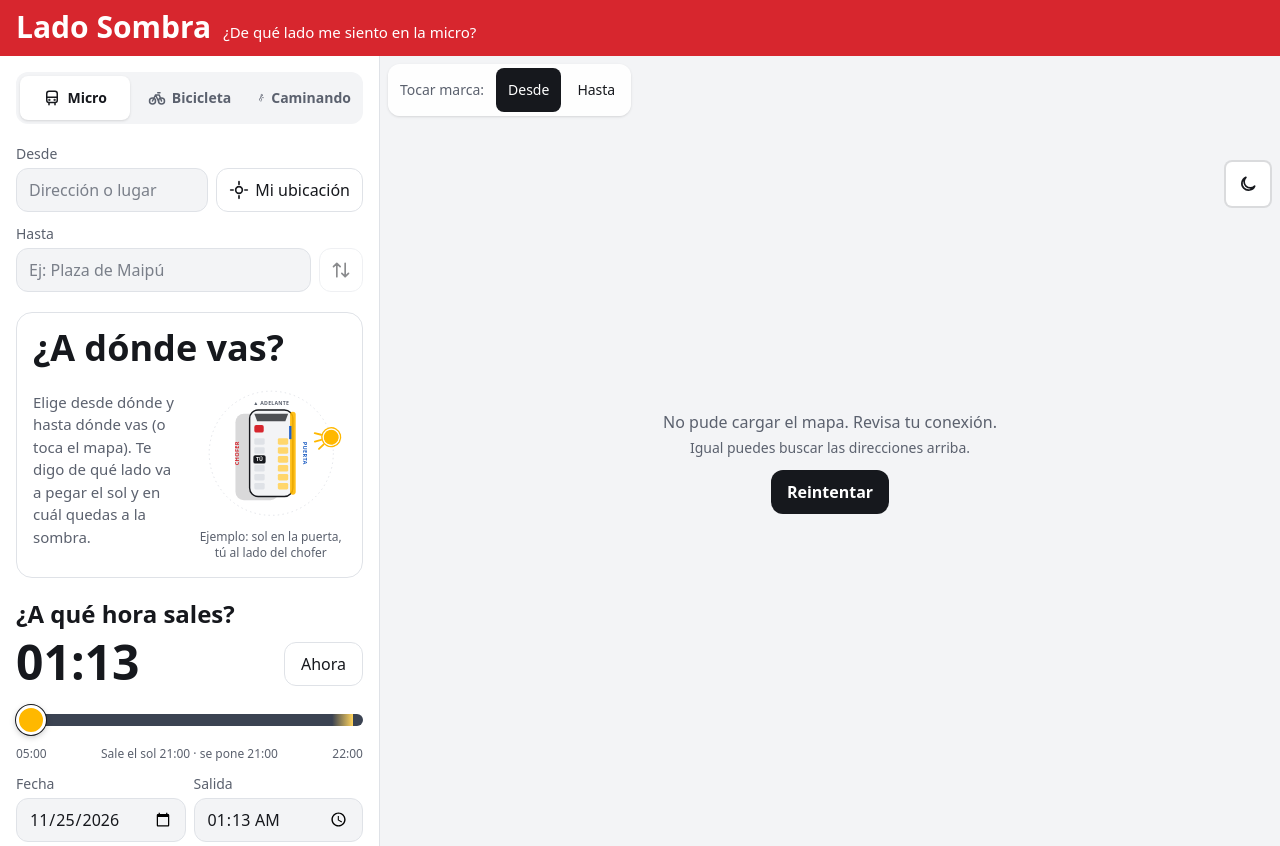
Test: App › sin permiso de GPS muestra un mensaje claro
The width and height of the screenshot is (1280, 846).
Click the button "Micro": (75, 98) top-left (20, 76), bottom-right (130, 120)
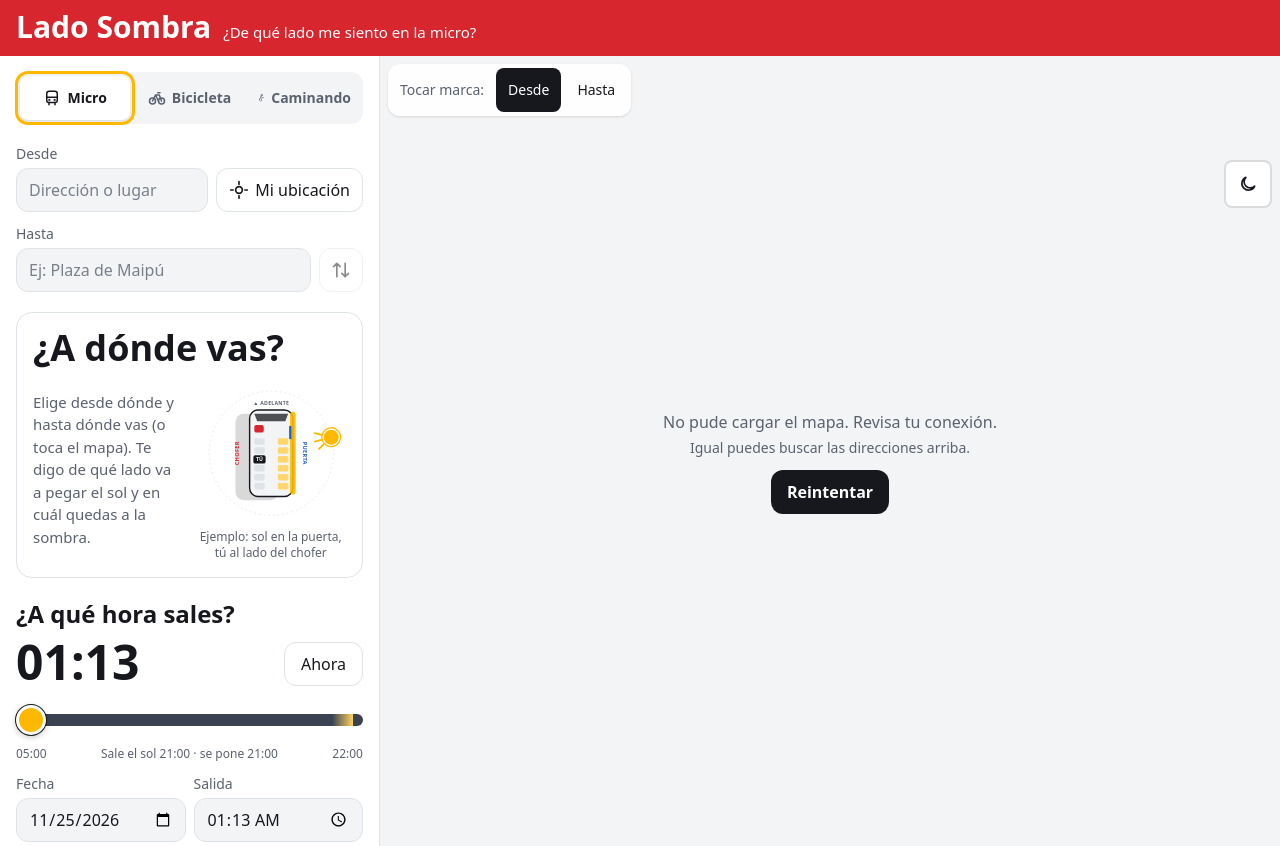
Click the button "Mi ubicación": (290, 190) top-left (216, 168), bottom-right (363, 212)
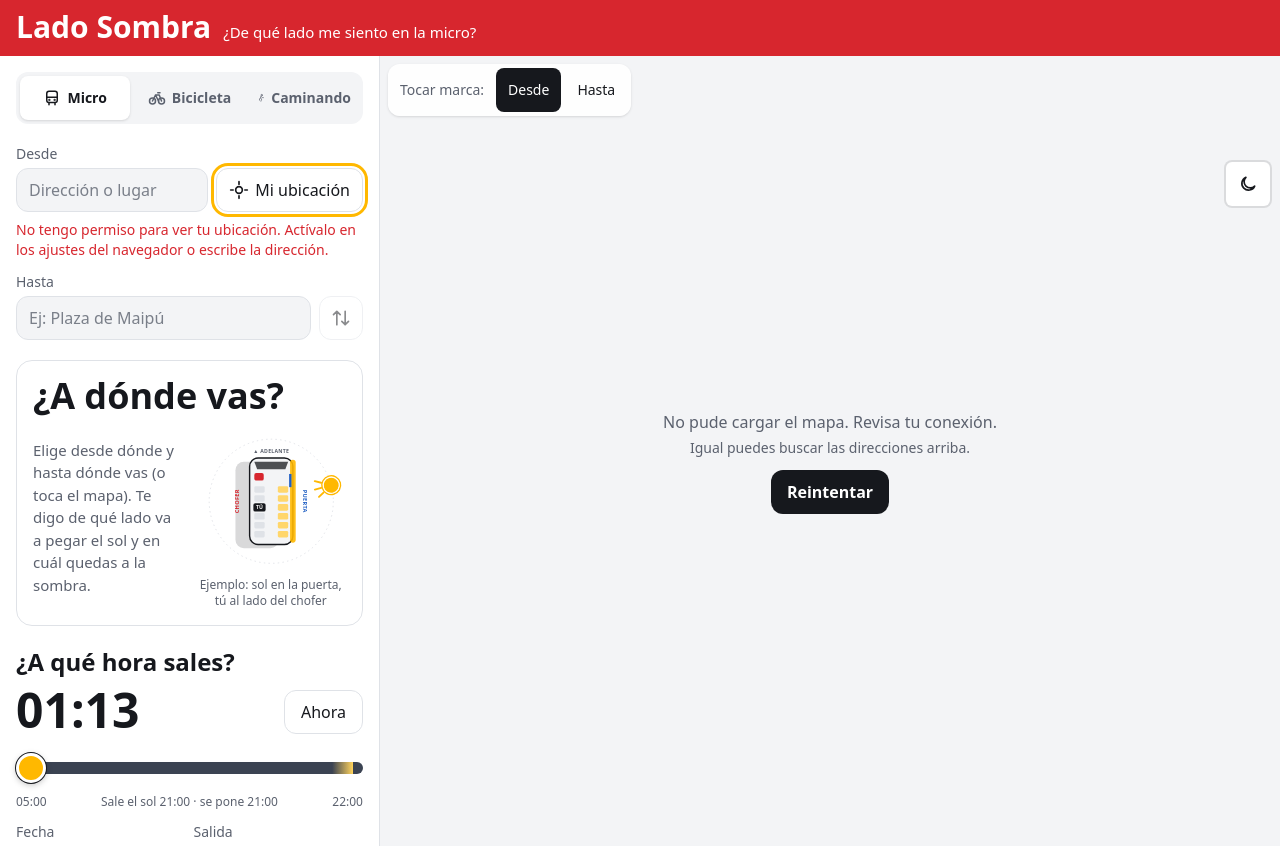
Now the text "No tengo permiso para ver tu ubicación" is shown, box top-left (16, 220), bottom-right (356, 258)
